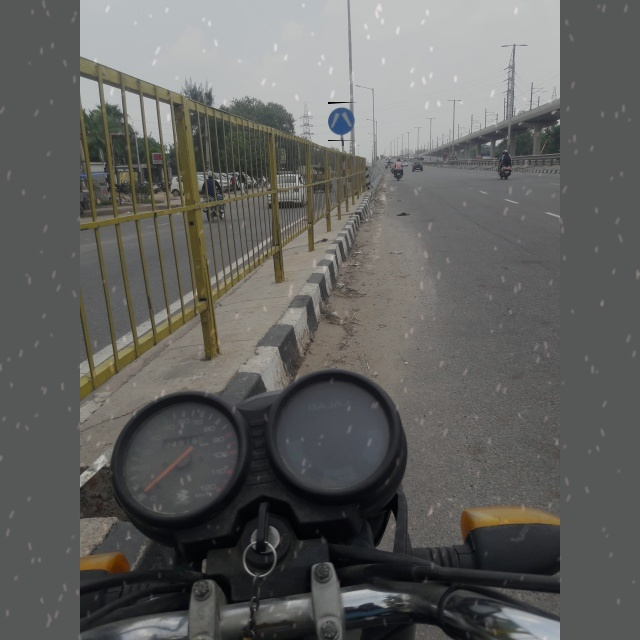Pass_Either_Side: (328, 102, 358, 141)
